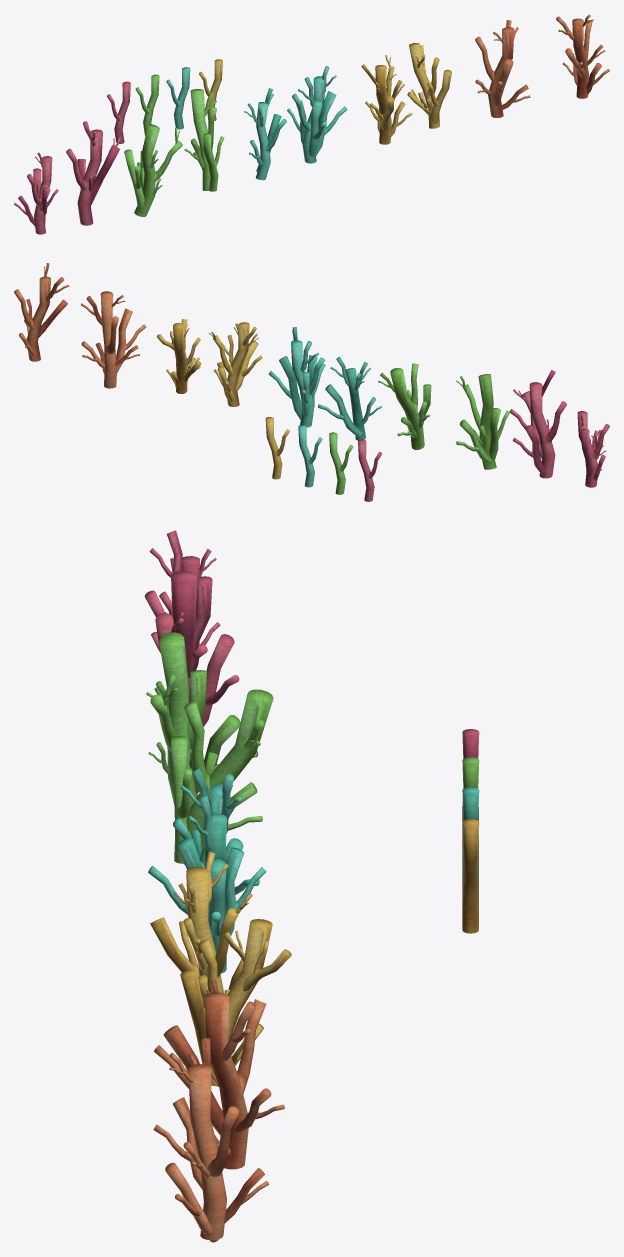
File: Corals (3).fbx
The picture shows the model from 3 angles, top to bottom: view 1: azimuth 30°, elevation 25°; view 2: azimuth 150°, elevation 25°; view 3: azimuth 270°, elevation 25°; orthographic projection. The views are drawn at different scales.
Visible parts, largest first — view 1: Roze_1, Groen_2_2, Groen_2_4, Oranje_1, Oranje_2_2, Geel_2_4, Turqoise_1, Geel_1, Turqoise_1_2, Roze_2_3, Roze, Turqoise (+10 smaller); view 2: Roze_1, Groen_2_4, Oranje_1, Groen_2_2, Oranje_2_2, Geel_1, Turqoise_1_2, Geel_2_4, Turqoise_4_2, Turqoise_1, Groen, Roze_2_3 (+11 smaller); view 3: Oranje_1, Oranje_2_2, Groen_2_4, Groen_2_2, Geel_2_4, Geel_1, Geel, Roze_1, Groen_1_3, Oranje_2, Roze_6, Geel_2 (+7 smaller).
Part boxes in pixels (box(x1,y1,x2,y2)): Roze_1: box(66, 129, 102, 225); Groen_2_2: box(134, 124, 182, 216); Groen_2_4: box(190, 89, 216, 190); Oranje_1: box(475, 27, 514, 117); Oranje_2_2: box(572, 18, 592, 98); Geel_2_4: box(409, 43, 439, 128); Turqoise_1: box(255, 102, 286, 180); Geel_1: box(375, 65, 394, 144); Turqoise_1_2: box(292, 76, 324, 163); Roze_2_3: box(27, 156, 52, 234); Roze: box(107, 81, 130, 143); Turqoise: box(166, 67, 190, 129); Roze_1: box(529, 382, 566, 478); Groen_2_4: box(390, 363, 424, 449); Oranje_1: box(100, 291, 118, 388); Groen_2_2: box(462, 374, 496, 469); Oranje_2_2: box(14, 276, 50, 361); Geel_1: box(213, 322, 249, 406); Turqoise_1_2: box(291, 340, 324, 427); Geel_2_4: box(173, 319, 187, 393); Turqoise_4_2: box(268, 356, 302, 420); Turqoise_1: box(346, 368, 365, 440); Groen: box(329, 432, 353, 494); Roze_2_3: box(577, 411, 609, 487); Oranje_1: box(204, 992, 266, 1169); Oranje_2_2: box(188, 1064, 239, 1240); Groen_2_4: box(183, 689, 273, 864); Groen_2_2: box(150, 632, 197, 809); Geel_2_4: box(199, 919, 272, 1086); Geel_1: box(186, 866, 238, 996); Geel: box(462, 818, 479, 933); Roze_1: box(171, 571, 196, 667); Groen_1_3: box(171, 736, 192, 863); Oranje_2: box(154, 1025, 223, 1135); Roze_6: box(201, 634, 239, 726); Geel_2: box(150, 917, 201, 995).
Bounding box in the file's own units: 3127 × 564 × 773.
Materials: 5 (5 with a texture image).
